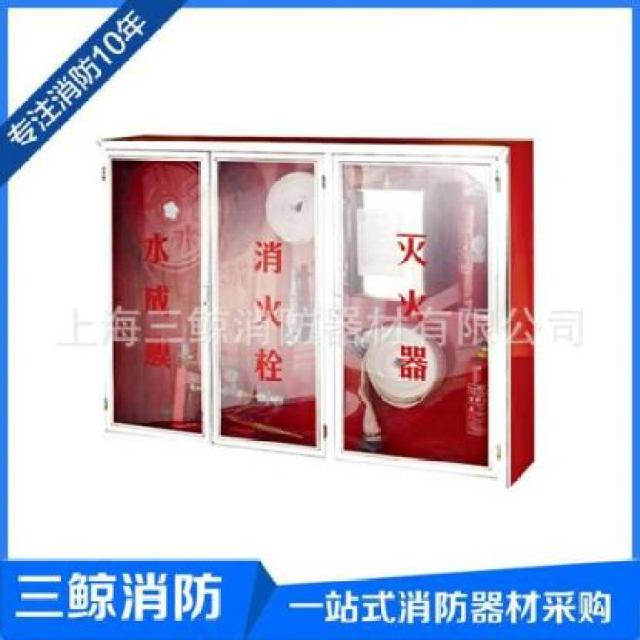firehydrant: (91, 130, 541, 496)
